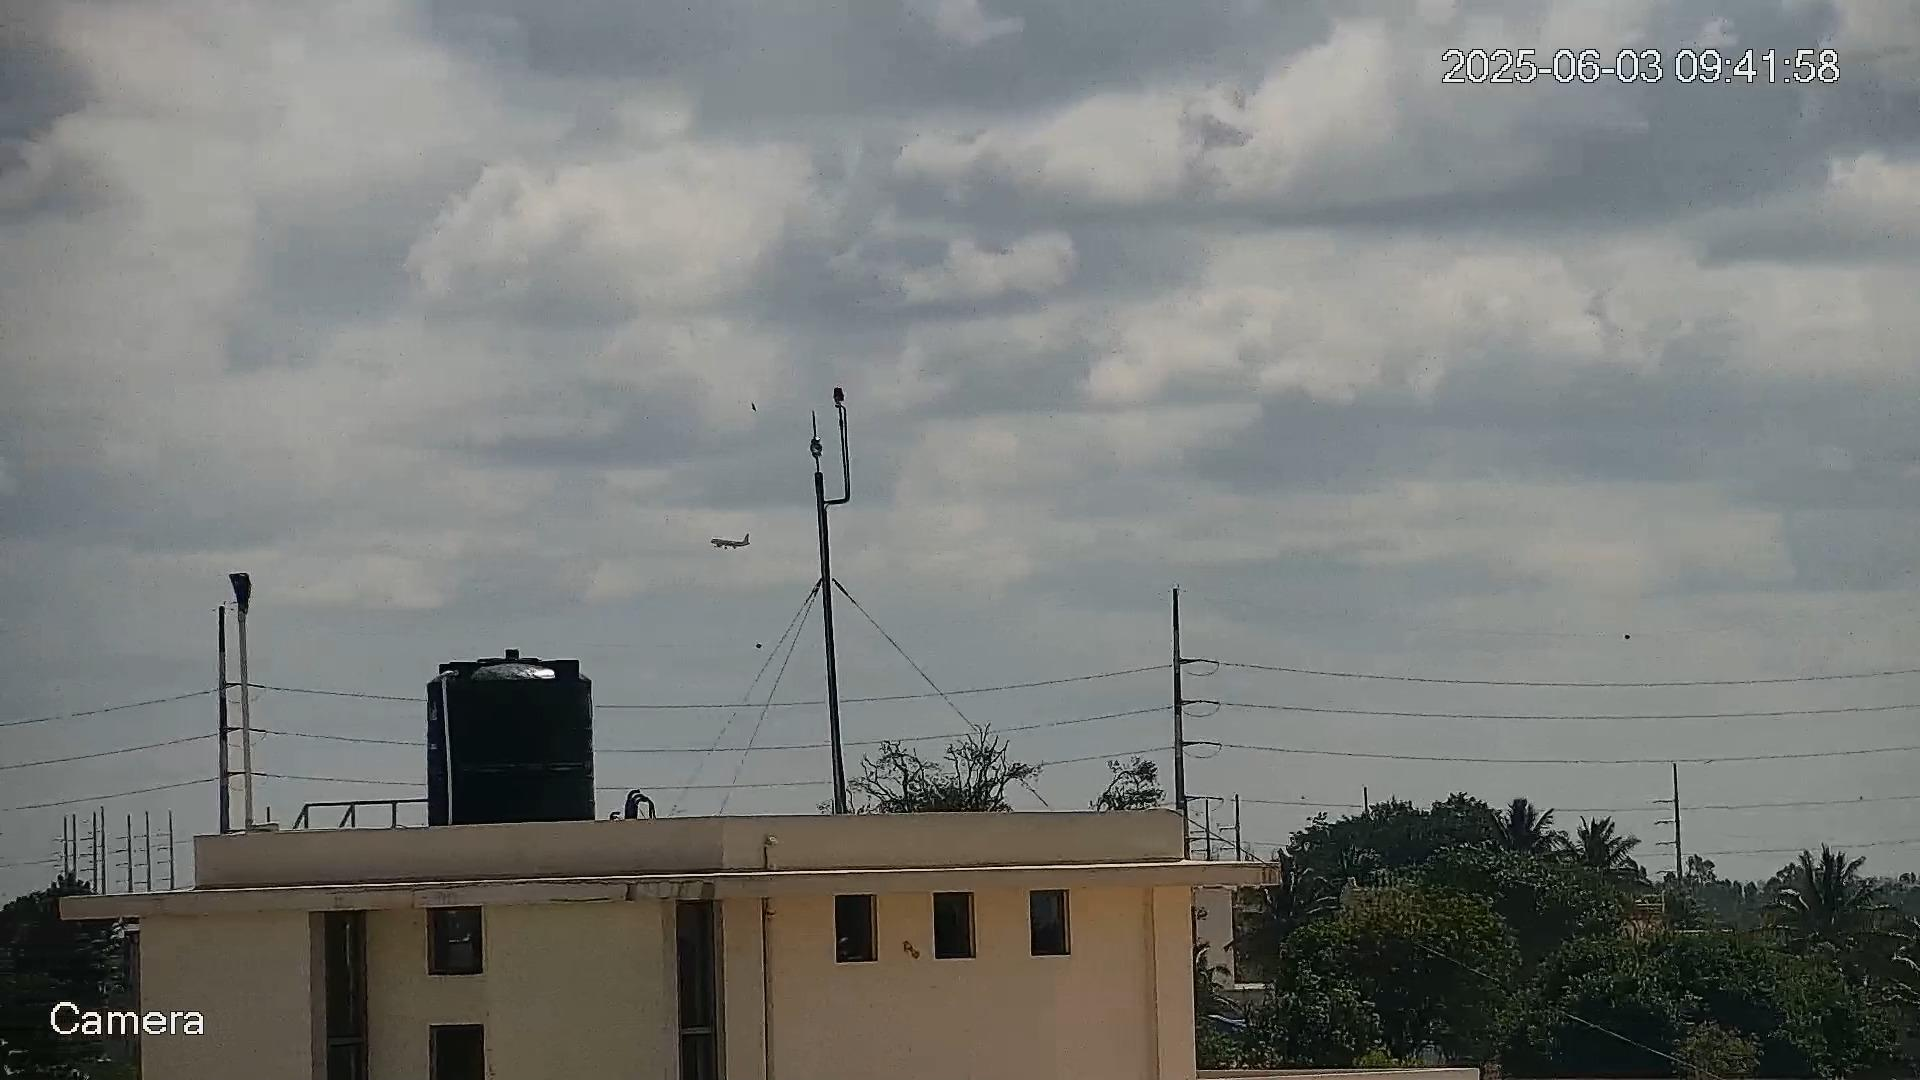Aircraft: (707, 531, 753, 551)
